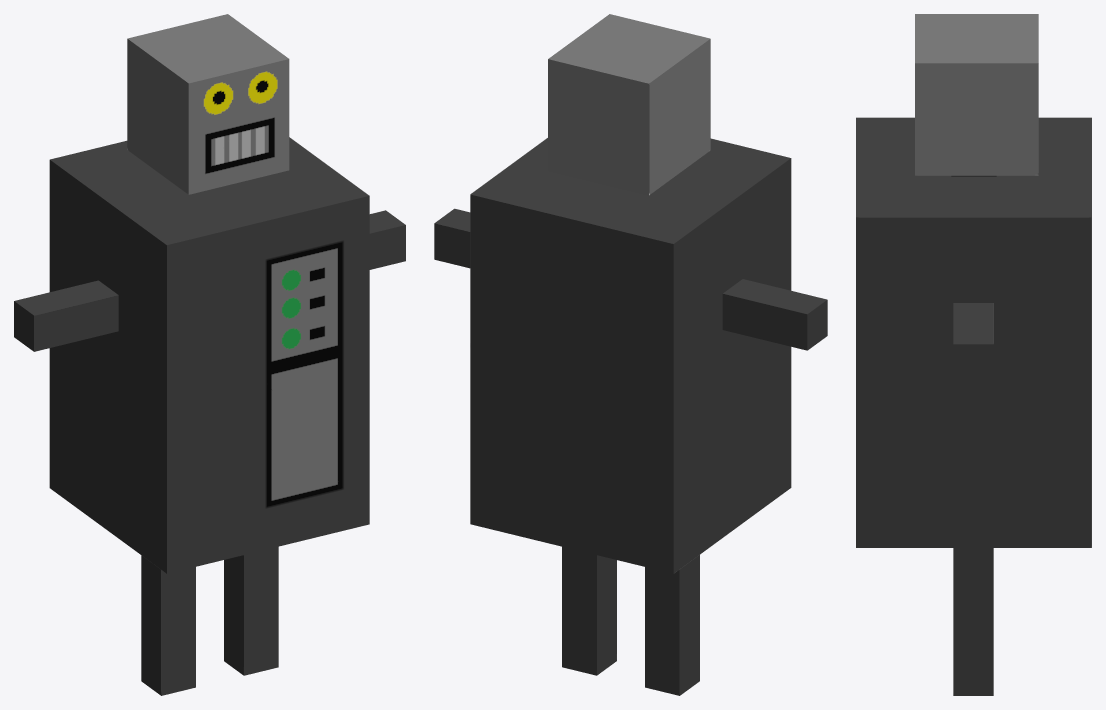
Rendered from robot.obj.
3 renders of one model, left to right at view 1: azimuth 30°, elevation 25°; view 2: azimuth 150°, elevation 25°; view 3: azimuth 270°, elevation 25°, orthographic.
Parts seen in each view (by area): view 1: Cube_Cube.001; view 2: Cube_Cube.001; view 3: Cube_Cube.001.
Part boxes in pixels (bbox=[...]): Cube_Cube.001: bbox=[14, 14, 405, 695]; Cube_Cube.001: bbox=[434, 14, 827, 695]; Cube_Cube.001: bbox=[856, 14, 1091, 695].
Bounding box in the file's own units: 1.4 × 2.24 × 0.7622.
